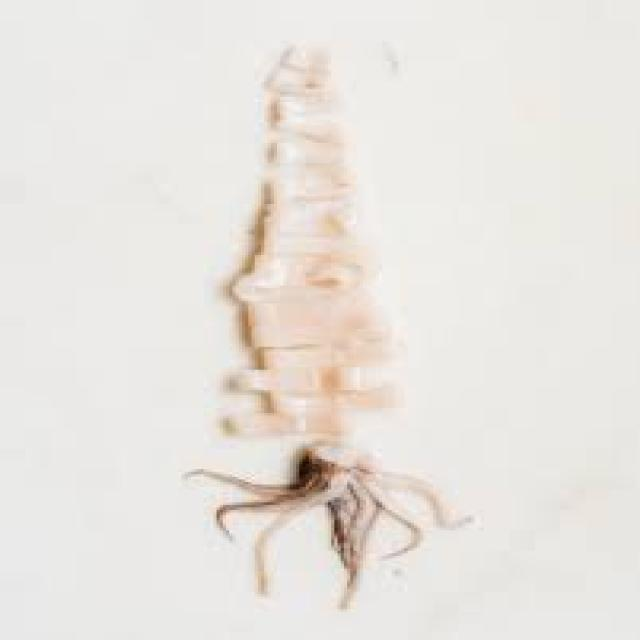squid: (191, 43, 446, 607)
